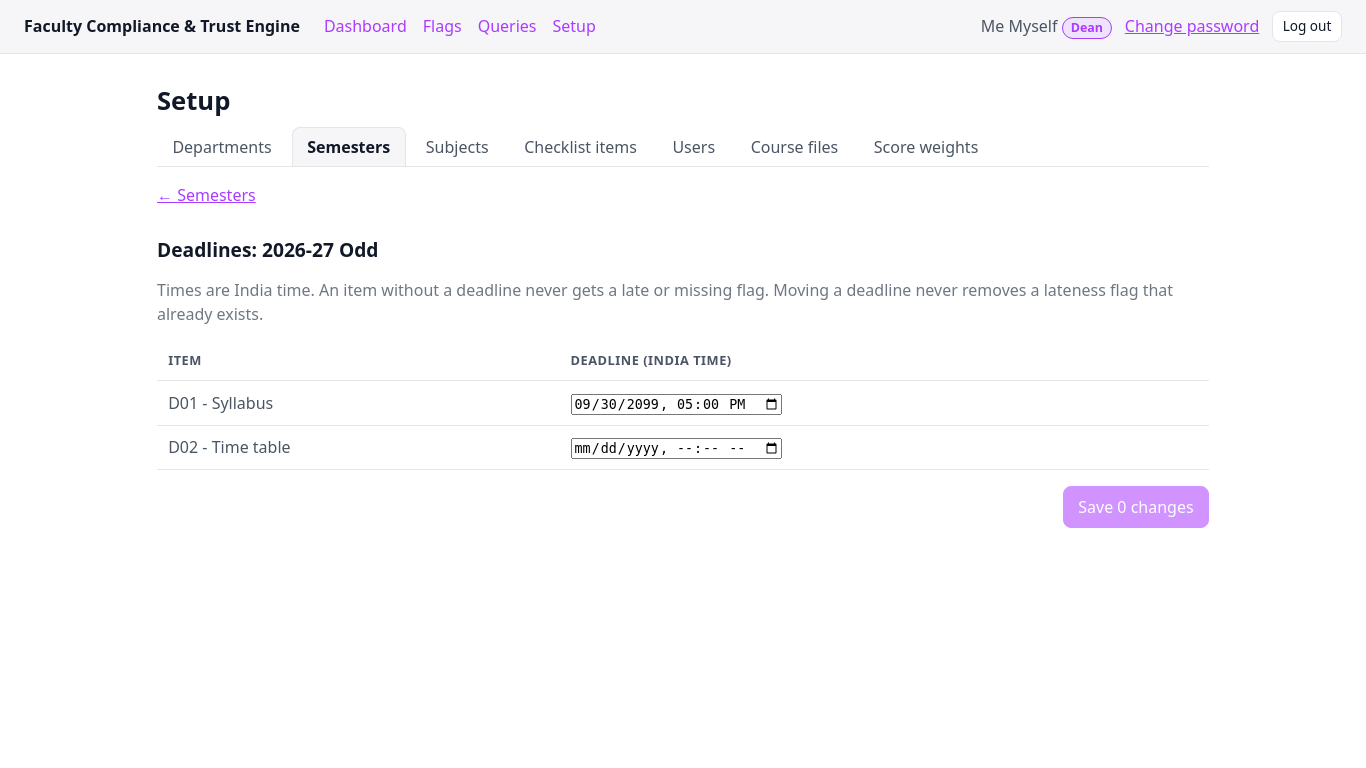
Test: deadlines › shows the server refusal
This screenshot has width=1366, height=768.
Type "2099-10-15T17:00" into the field named "Deadline for D02".
click(676, 449); type("2099-10-15T17:00")  # box [571,438,782,459]
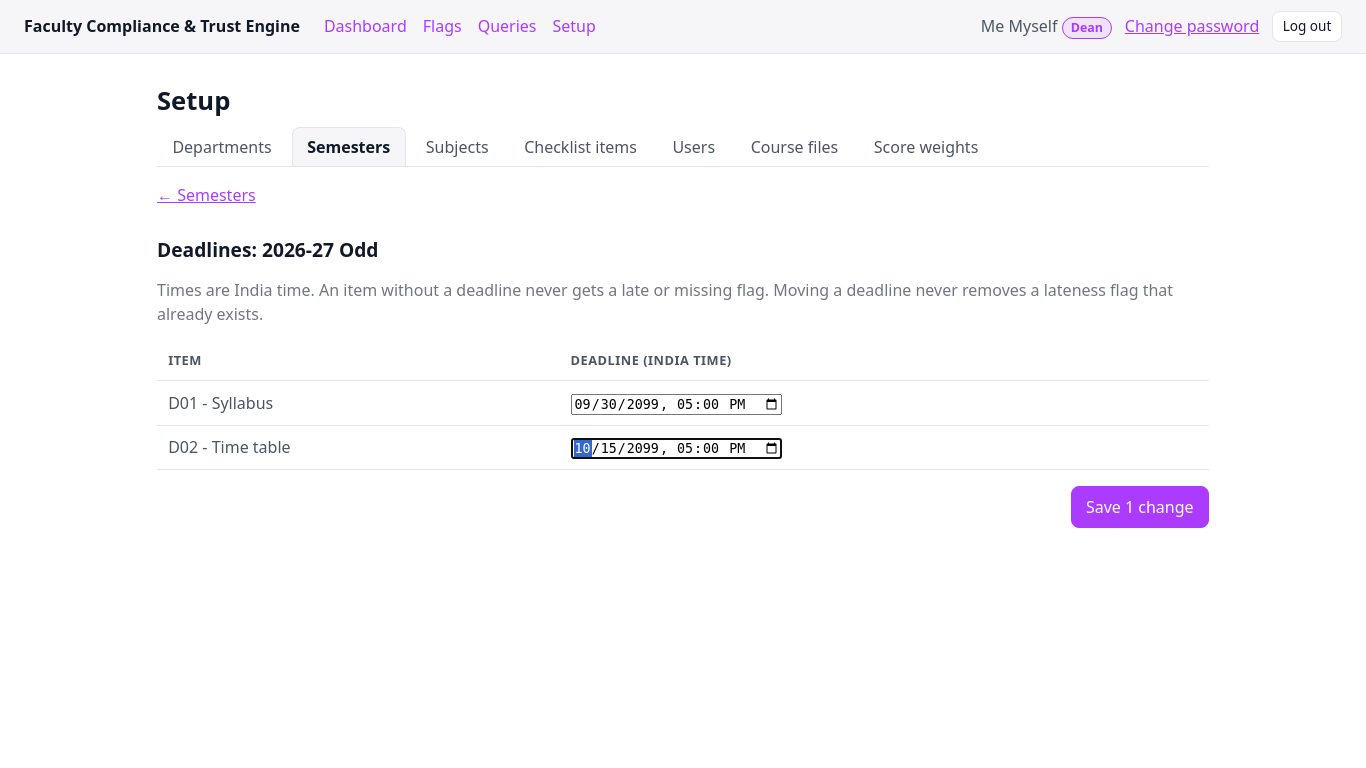
Click the button "Save 1 change".
click(1140, 507)  # box [1070,486,1209,528]
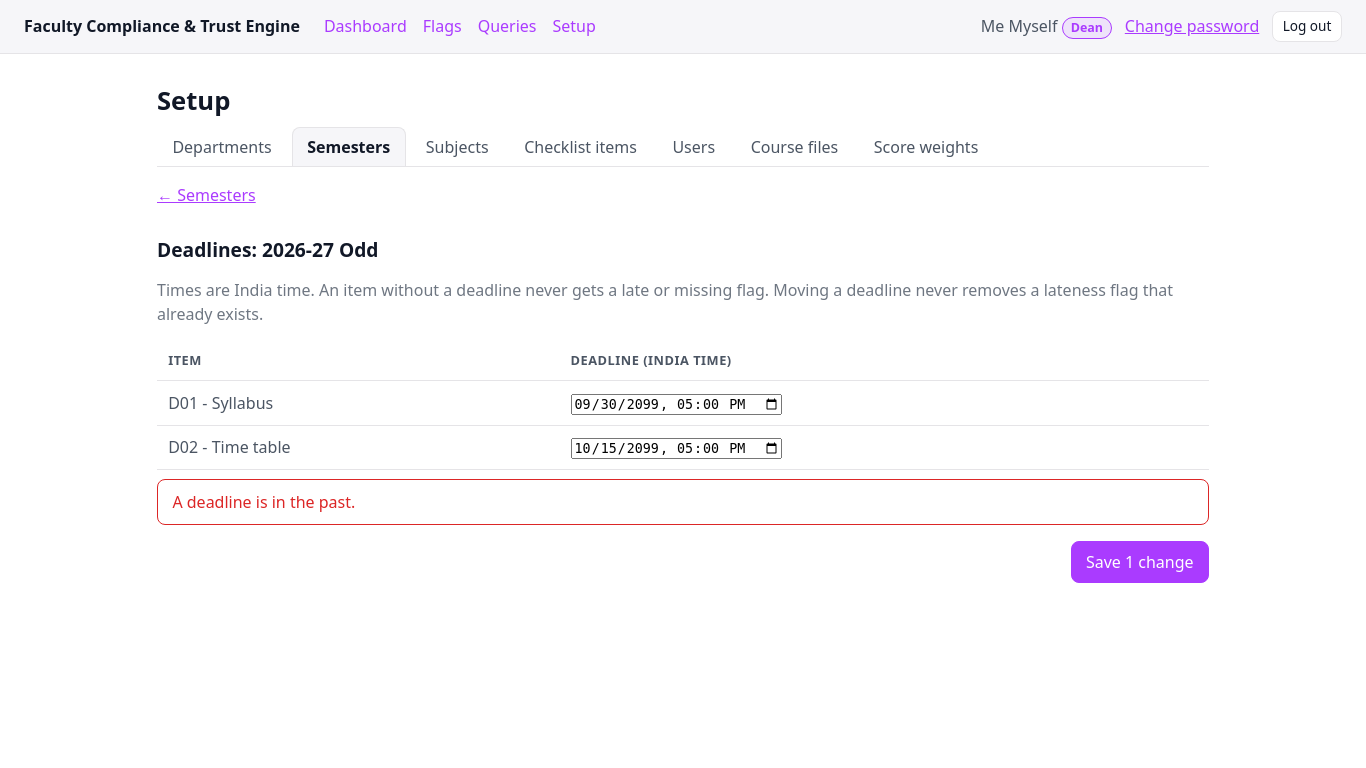
Result: the message reads "A deadline is in the past." at [172,491,355,513]
